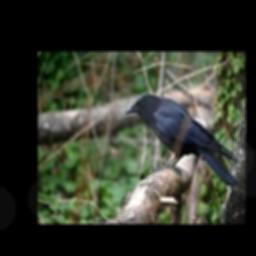Crow: (125, 93, 242, 189)
